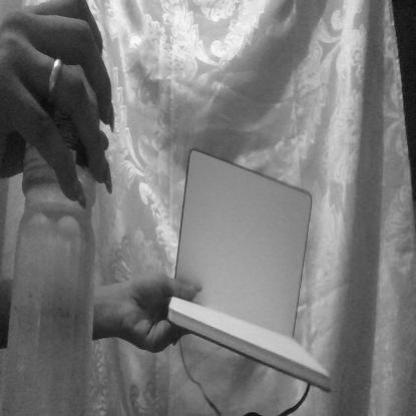Plastic Bottle: (19, 17, 115, 416)
